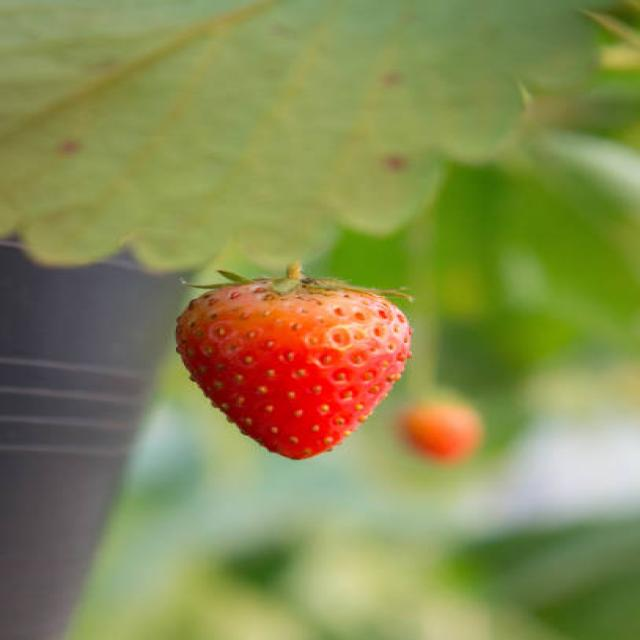Healthy Fruit: (178, 286, 413, 463)
